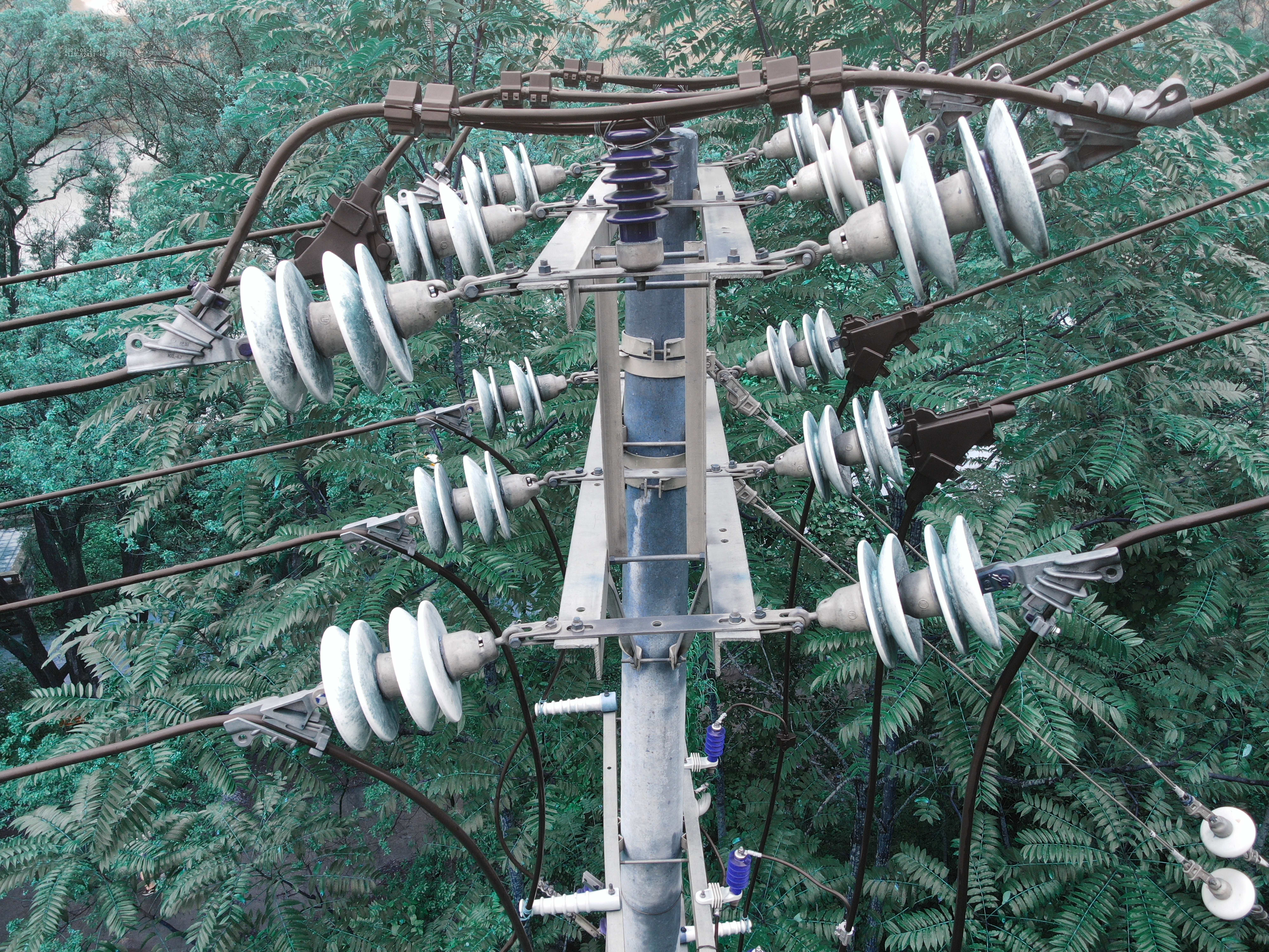severe_soiling_no_discharge_whole: (827, 101, 1056, 305), (237, 240, 461, 420), (812, 509, 1008, 673), (317, 599, 503, 748), (783, 88, 915, 223), (379, 179, 529, 281), (771, 392, 907, 504), (409, 449, 546, 556), (740, 311, 847, 397), (760, 90, 868, 171), (470, 357, 573, 441), (456, 139, 570, 210)
